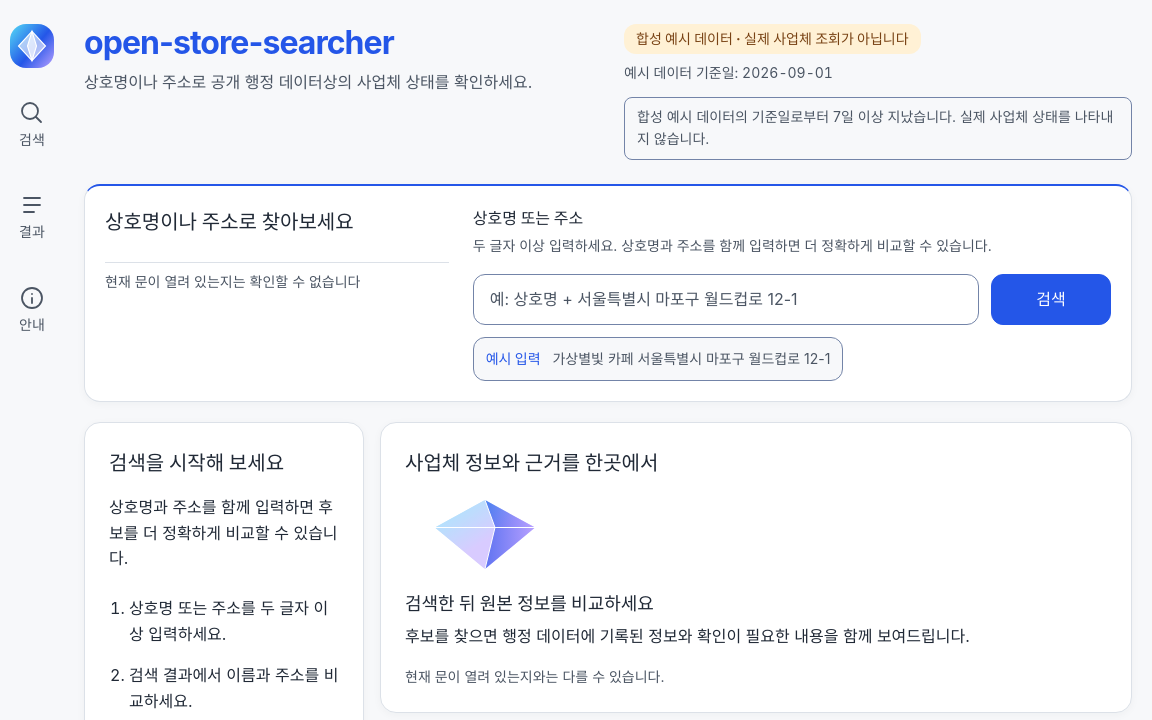
Scenario: App › shows medium-confidence candidates without inventing a primary match
Type "서울특별시 마포구 월드컵로 12-1" into the search field labelled "상호명 또는 주소".
click(726, 299); type("서울특별시 마포구 월드컵로 12-1")  # box [473,274,979,325]
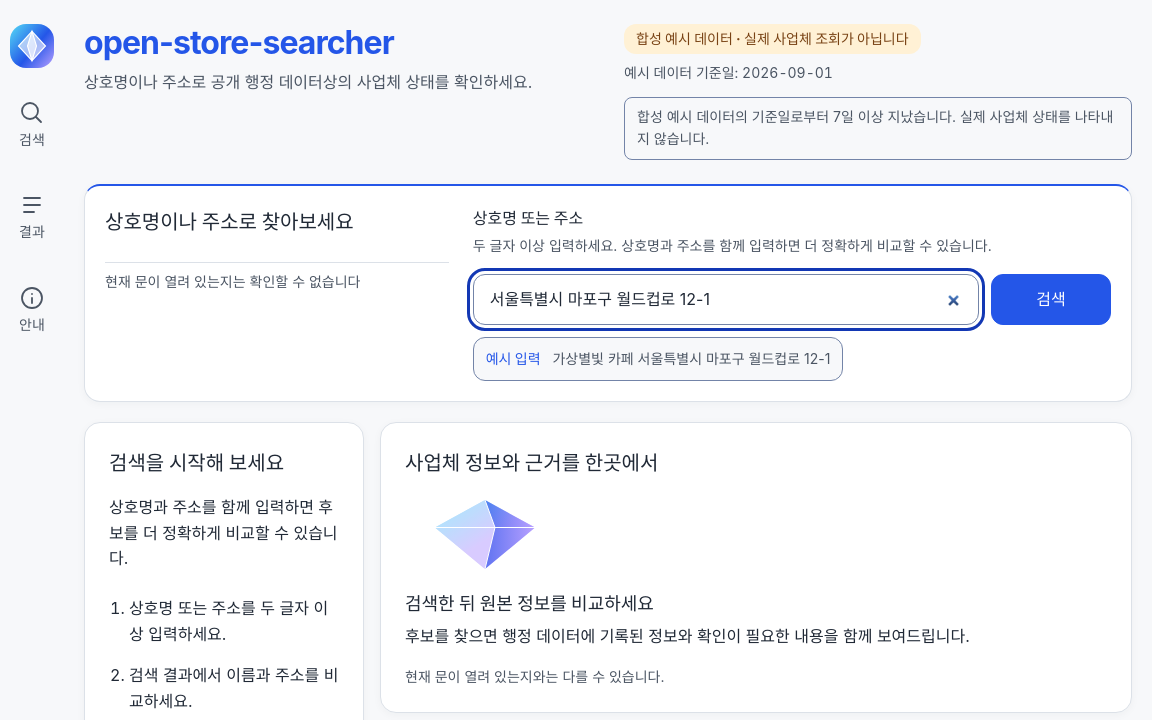
Click the button "검색" in the row of "현재 문이 열려 있는지는 확인할 수 없습니다".
click(1051, 299)  # box [991,274,1111,325]
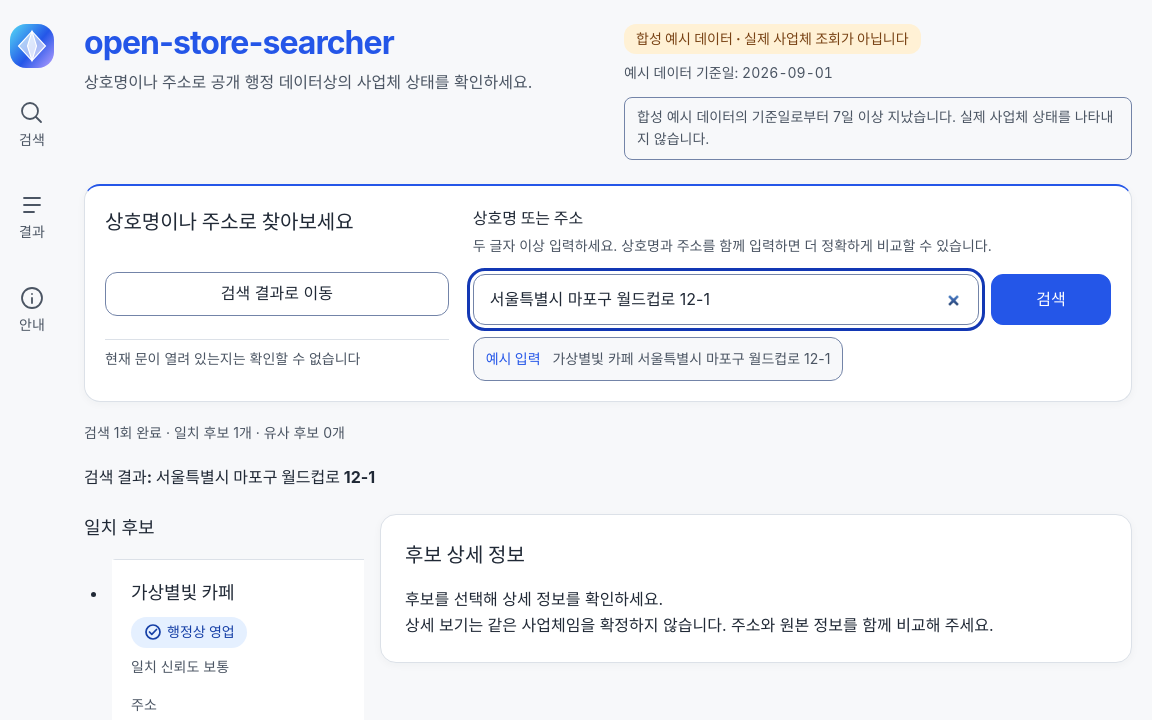
Expected: the text "일치 신뢰도 보통" is shown, [131,656,229,678]
